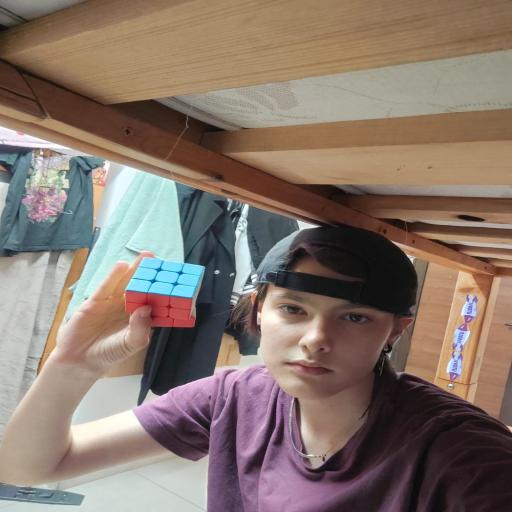Rubiks Cube: (124, 258, 204, 329)
